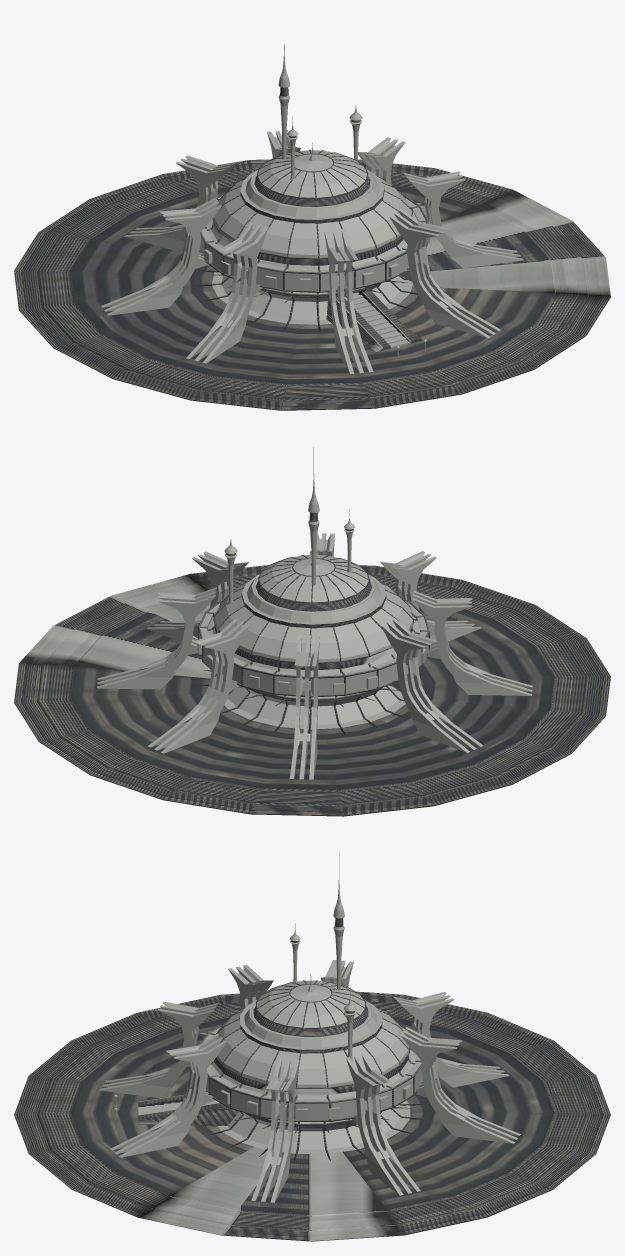
The model's file is building.obj.
The picture shows the model from 3 angles, top to bottom: view 1: azimuth 30°, elevation 25°; view 2: azimuth 150°, elevation 25°; view 3: azimuth 270°, elevation 25°; orthographic projection.
Bounding box in the file's own units: 10.03 × 4.91 × 10.03.
